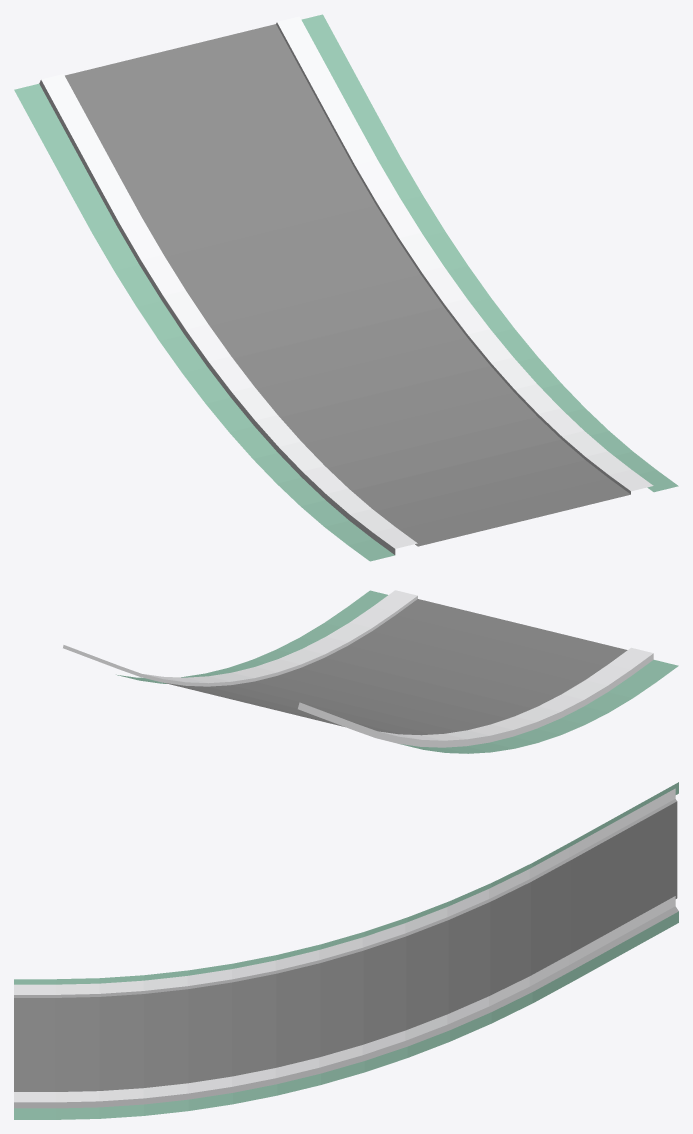
The model's file is roadSlopeUpStart.glb.
The picture shows the model from 3 angles, top to bottom: view 1: azimuth 30°, elevation 25°; view 2: azimuth 150°, elevation 25°; view 3: azimuth 270°, elevation 25°; orthographic projection. The views are drawn at different scales.
Parts seen in each view (by area): view 1: roadSlopedLong; view 2: roadSlopedLong; view 3: roadSlopedLong.
Boxes of the visible parts, x1,y1,x2,y2 form: roadSlopedLong: [14, 14, 678, 561]; roadSlopedLong: [63, 590, 678, 753]; roadSlopedLong: [14, 782, 678, 1119].
Bounding box in the file's own units: 1 × 0.6702 × 2.
